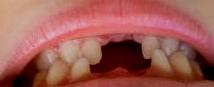Hypodontia: (97, 40, 144, 58), (120, 55, 155, 72), (88, 61, 120, 77)
